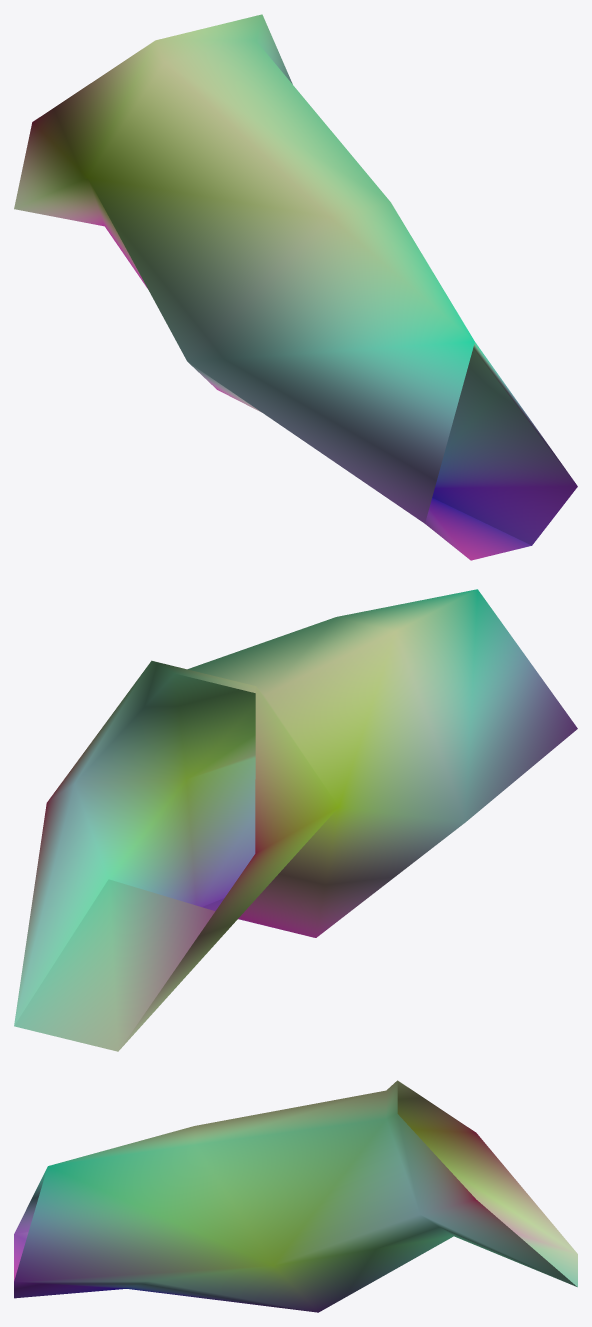
The picture shows the model from 3 angles, top to bottom: view 1: azimuth 30°, elevation 25°; view 2: azimuth 150°, elevation 25°; view 3: azimuth 270°, elevation 25°; orthographic projection. The views are drawn at different scales.
Parts seen in each view (by area): view 1: part; view 2: part; view 3: part.
Boxes of the visible parts, box(x1,y1,x2,y2) form: part: box(14, 14, 577, 560); part: box(14, 589, 577, 1051); part: box(14, 1080, 577, 1312).
Size of the model in its own units: 17 by 19 by 50.
